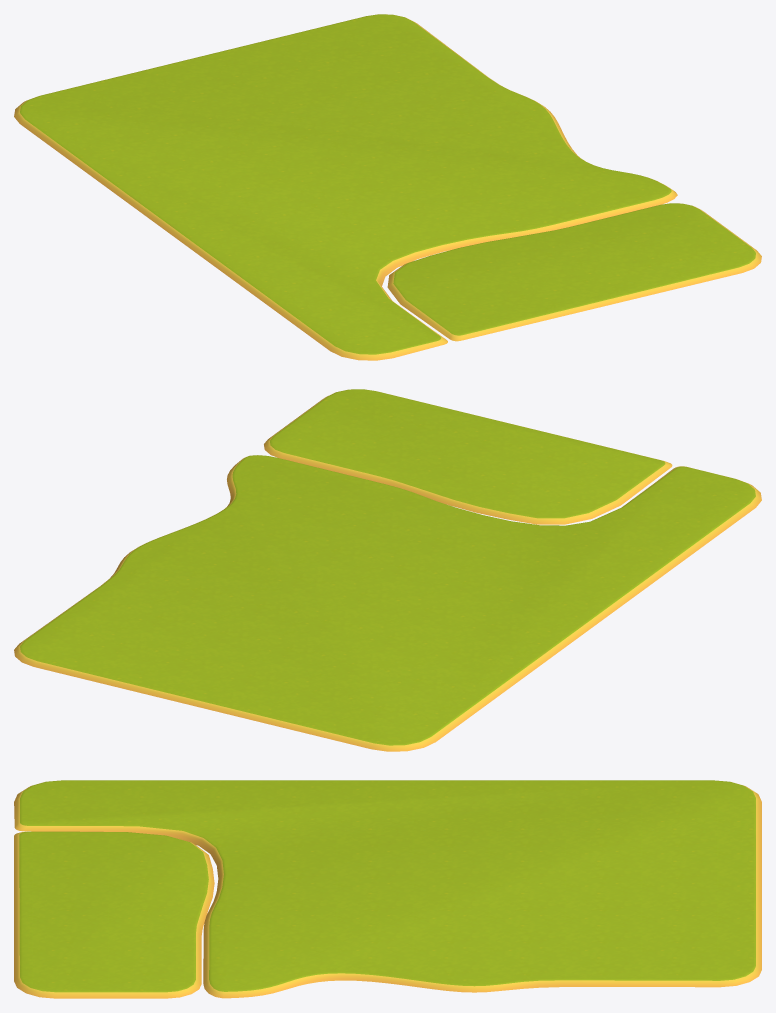
File: Ground.fbx
3 renders of one model, top to bottom at view 1: azimuth 30°, elevation 25°; view 2: azimuth 150°, elevation 25°; view 3: azimuth 270°, elevation 25°, orthographic. The views are drawn at different scales.
Parts seen in each view (by area): view 1: Ground; view 2: Ground; view 3: Ground.
Boxes of the visible parts, x1,y1,x2,y2 form: Ground: [14, 14, 761, 360]; Ground: [14, 389, 761, 751]; Ground: [14, 780, 761, 998].
Size of the model in its own units: 6180 by 96.48 by 9009.
